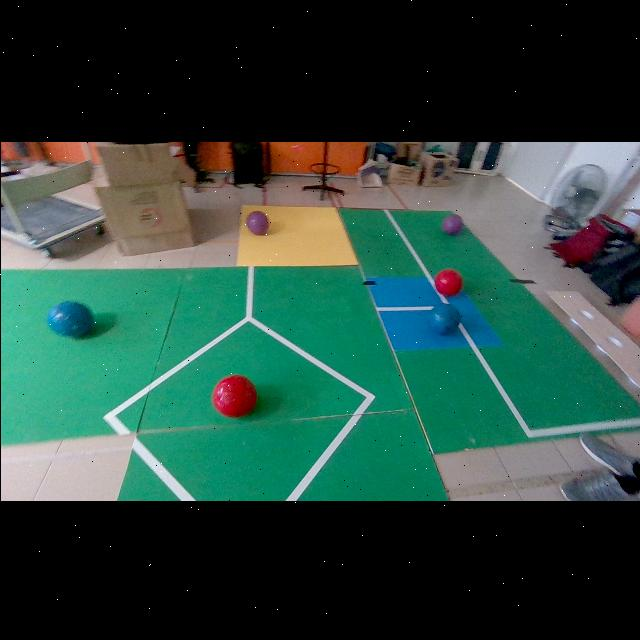B: (46, 299, 93, 336), (428, 302, 459, 334)
P: (246, 210, 267, 234), (440, 212, 462, 233)
R: (212, 373, 256, 416), (434, 268, 462, 294)
